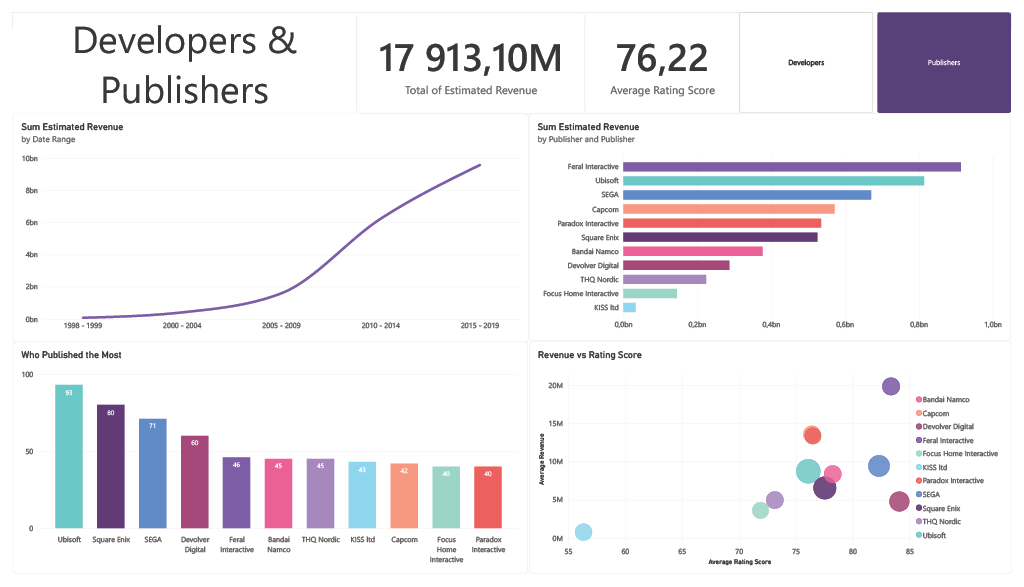

The page's visual inventory and layout, read from the dashboard file:
{"tool":"powerbi","page":{"name":"Developers & Publishers","canvas":[1920,1080],"ordinal":2},"visuals":[{"type":"lineChart","fields":{"Category":["steam.date_range"],"Y":["Sum(steam.estimated_revenue)"]},"box":[0,194,992,440],"z":0},{"type":"textbox","box":[0,0,661.3,194],"z":1000},{"type":"barChart","fields":{"Category":["steam_developers.developer_name"],"Series":["steam_developers.developer_name"],"Y":["Sum(steam.estimated_revenue)"]},"box":[992.3,194,927.7,440],"z":1000,"group":"g1"},{"type":"columnChart","title":"Who Developed the Most","fields":{"Category":["steam_developers.developer_name"],"Series":["steam_developers.developer_name"],"Y":["CountNonNull(steam.appid)"]},"box":[0,632,991.4,447.1],"z":1000,"group":"g3"},{"type":"scatterChart","title":"Revenue vs Rating Score","fields":{"Series":["steam_developers.developer_name"],"Size":["CountNonNull(steam.appid)"],"X":["Avg(steam.rating_score)"],"Y":["Avg(steam.estimated_revenue)"]},"box":[991.5,632.4,928.7,447.3],"z":1000,"group":"g2"},{"type":"cardVisual","fields":{"Data":["Sum(steam.estimated_revenue)"]},"box":[661.4,0,438.6,194.3],"z":3000},{"type":"cardVisual","fields":{"Data":["Avg(steam.rating_score)"]},"box":[1100,0,297.1,194.3],"z":4000},{"type":"group","id":"g1","title":"Group 3","box":[992,194,928,440],"z":5000},{"type":"group","id":"g2","title":"Group 2","box":[991.5,631.5,928.5,448.5],"z":6000},{"type":"group","id":"g3","title":"Group 1","box":[0,632,991.4,447.1],"z":7000},{"type":"bookmarkNavigator","box":[1396.7,0,523.3,193.3],"z":8000}]}

Visuals, with their boxes in screenshot pixels (x1, y1, x2, y2), scaled from the page's 1920x1080 canvas onto the 1024x587 screenshot:
lineChart - steam.date_range x Sum(steam.estimated_revenue): rect(0, 105, 529, 345)
textbox: rect(0, 0, 353, 105)
barChart - steam_developers.developer_name x steam_developers.developer_name: rect(529, 105, 1023, 345)
"Who Developed the Most" columnChart: rect(0, 344, 529, 586)
"Revenue vs Rating Score" scatterChart: rect(529, 344, 1023, 586)
cardVisual - Sum(steam.estimated_revenue): rect(353, 0, 587, 106)
cardVisual - Avg(steam.rating_score): rect(587, 0, 745, 106)
"Group 3" group: rect(529, 105, 1023, 345)
"Group 2" group: rect(529, 343, 1023, 586)
"Group 1" group: rect(0, 344, 529, 586)
bookmarkNavigator: rect(745, 0, 1023, 105)
